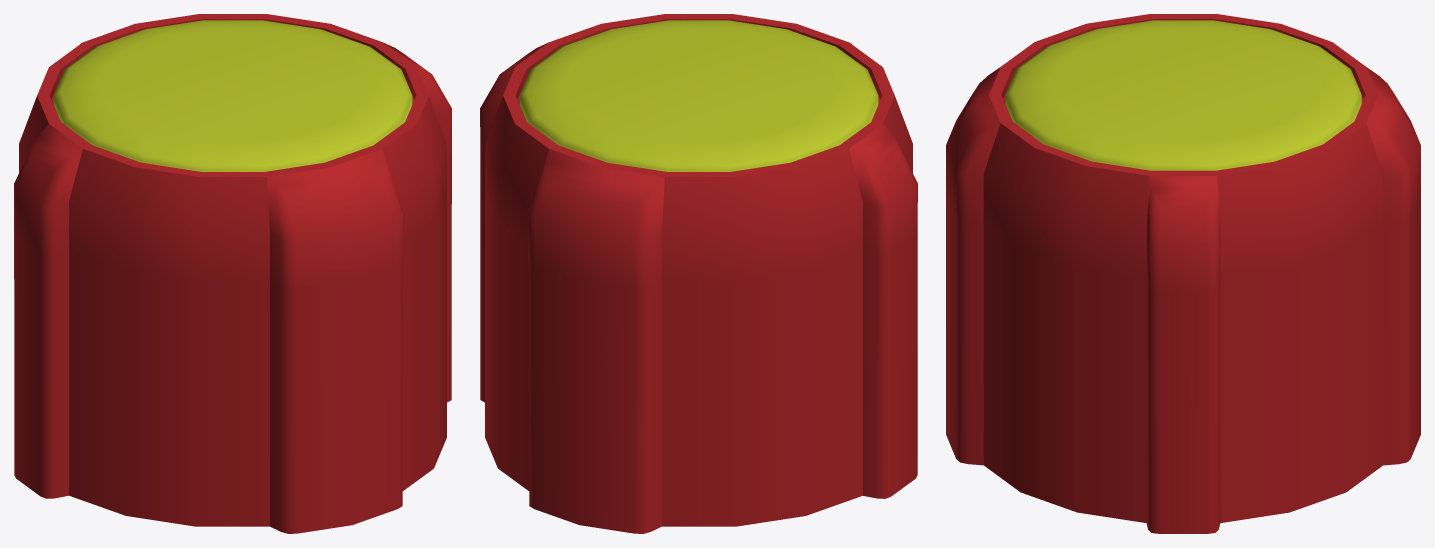
File: ProcessButton.fbx
3 views of the same model, side by side, from view 1: azimuth 30°, elevation 25°; view 2: azimuth 150°, elevation 25°; view 3: azimuth 270°, elevation 25° (orthographic).
Visible parts, largest first — view 1: processButton; view 2: processButton; view 3: processButton.
Part boxes in pixels (left/top/right/bottom): processButton: left=14, top=14, right=451, bottom=533; processButton: left=480, top=14, right=917, bottom=533; processButton: left=946, top=14, right=1420, bottom=533.
Size of the model in its own units: 26.24 by 21.58 by 26.54.
